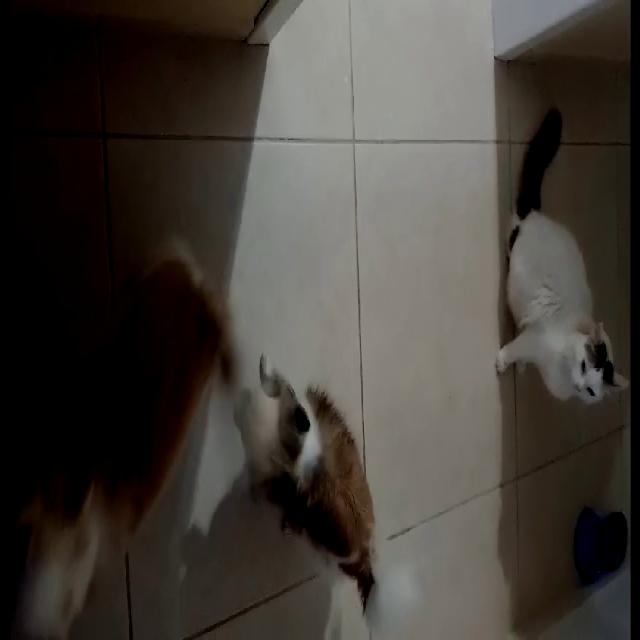Pedrita: (242, 320, 414, 638)
Theo: (0, 248, 258, 638)
